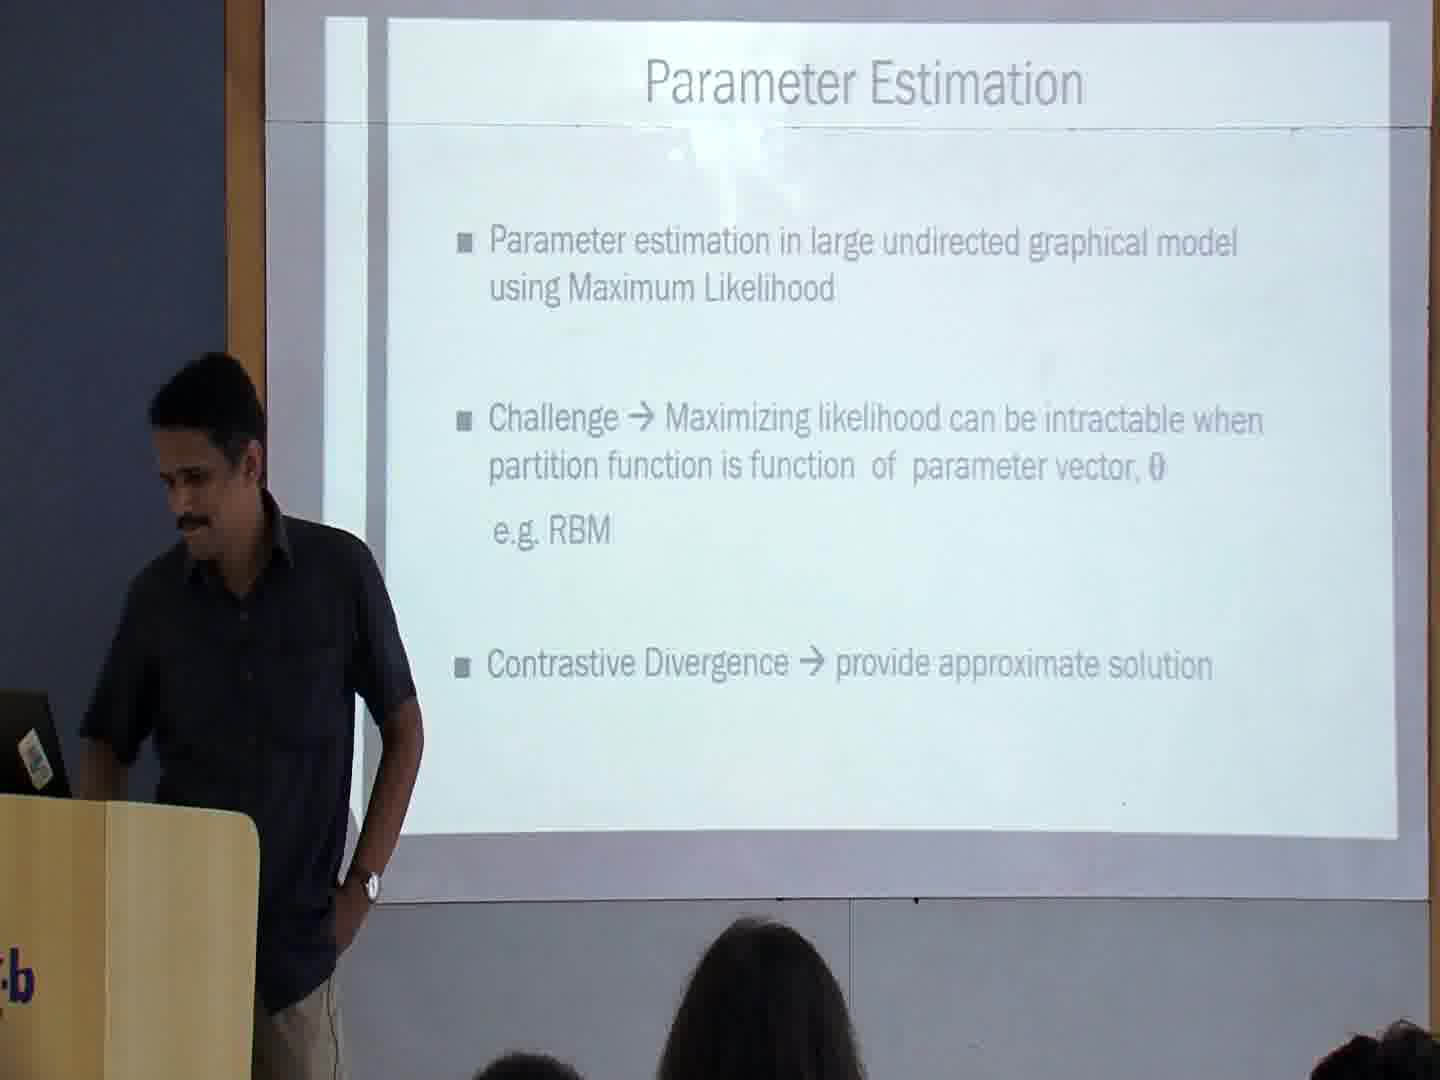slide: (323, 17, 1399, 835)
